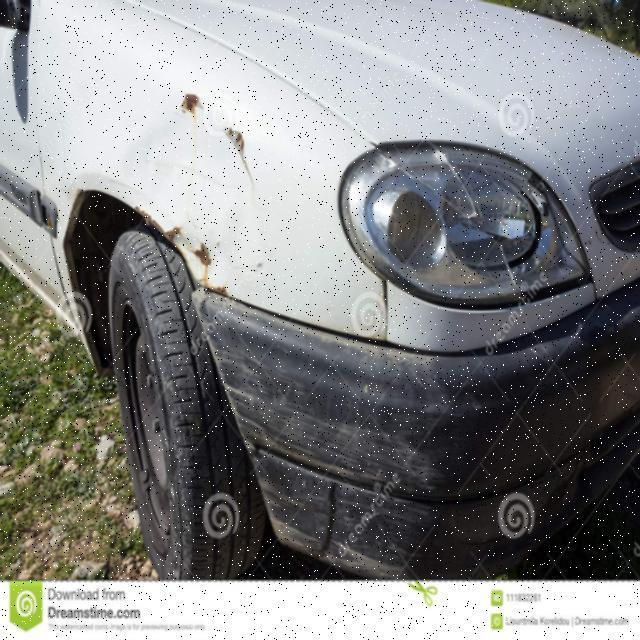Headlight-Damage: (326, 127, 600, 329)
fender-dent: (39, 70, 347, 350)
